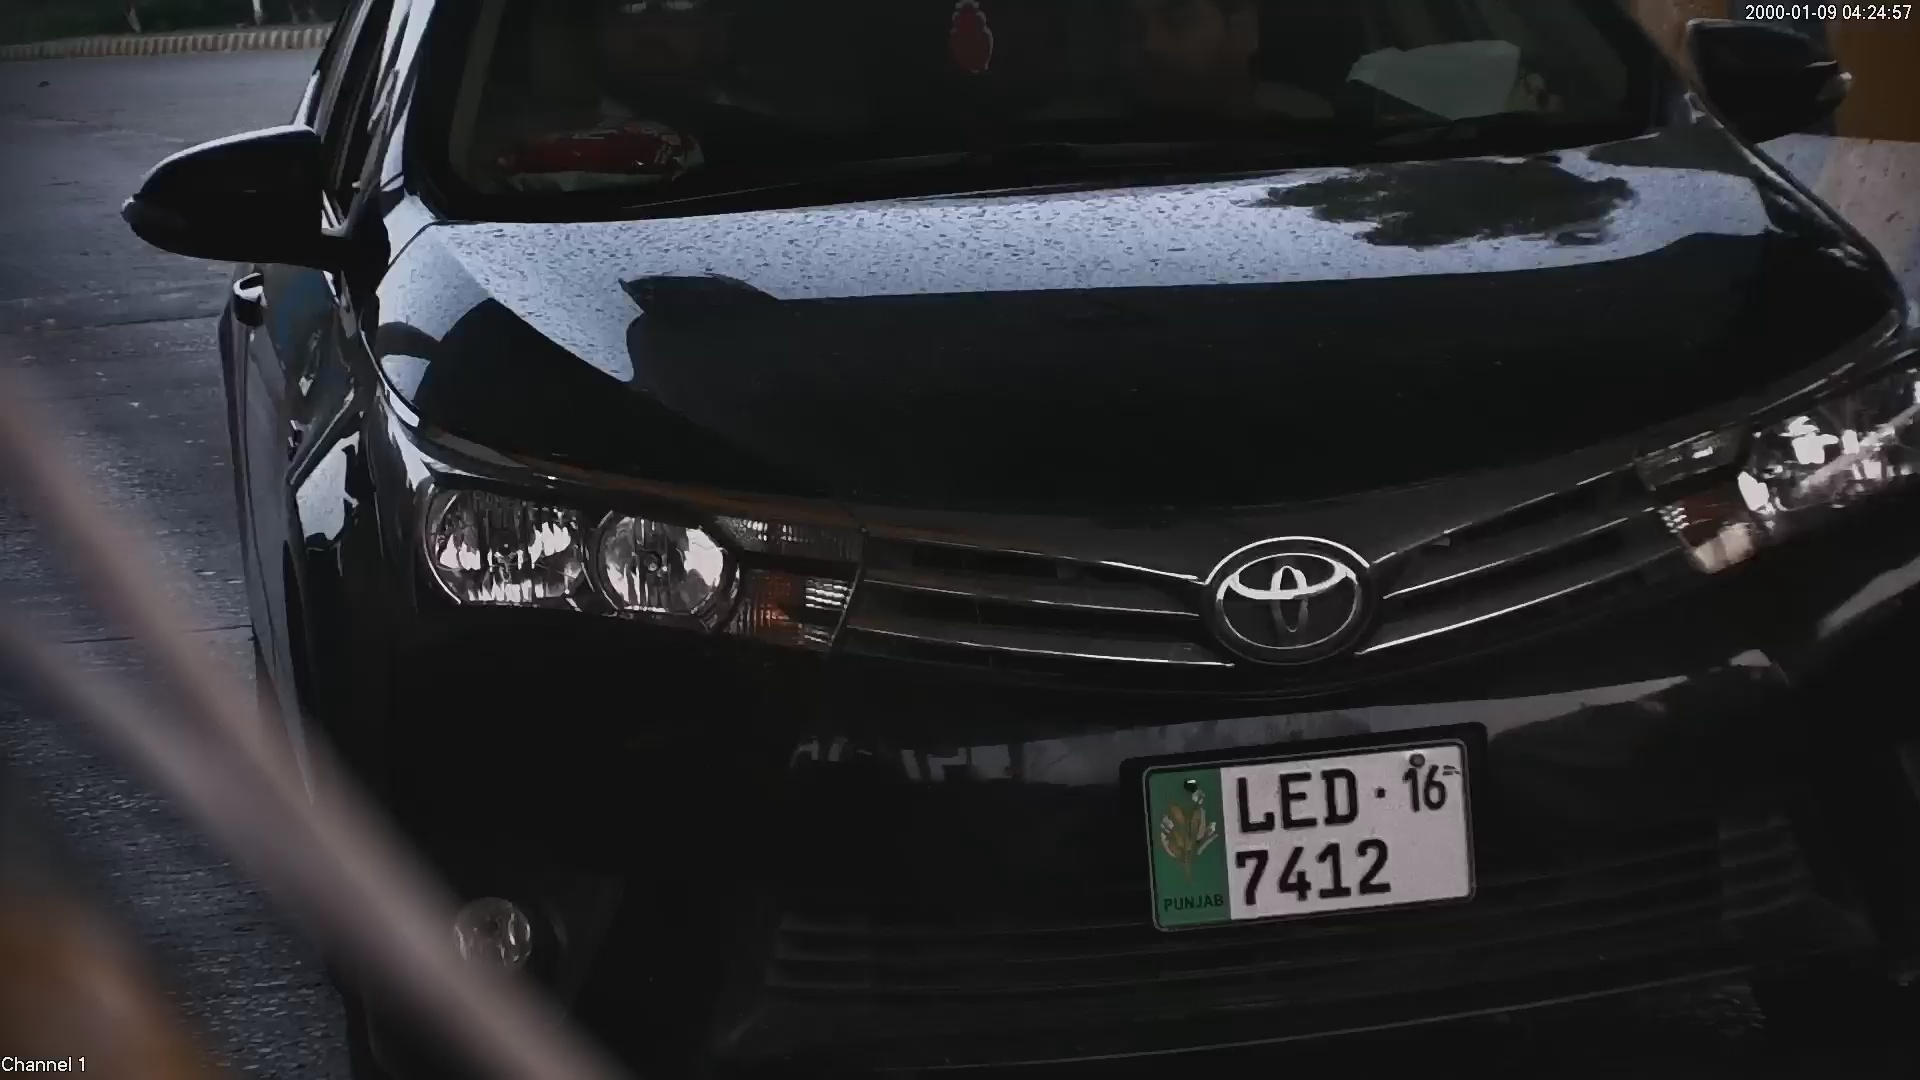Number_Plate: (1121, 736, 1508, 925)
Undefined: (430, 473, 826, 644), (1200, 533, 1378, 662)
